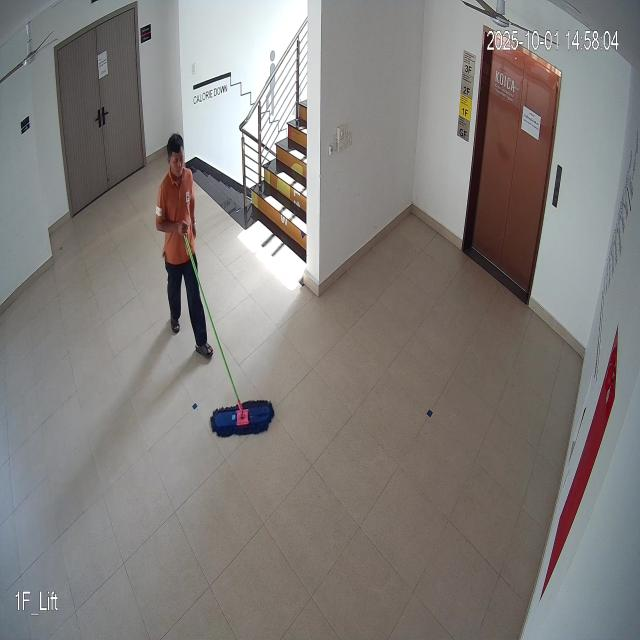face: (164, 132, 190, 186)
